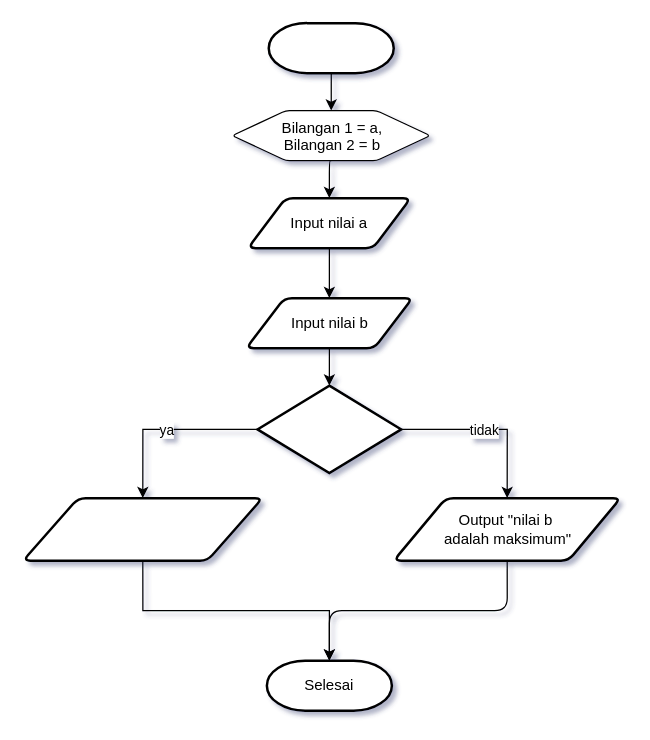
The diagram is 650 pixels wide and 740 high, and some of its shapes have lost their labels. Each missing label, with the centre of its shape:
a > b ?: the point at 329,429
Mulai: the point at 330,47
Output "nilai a adalah maksimum": the point at 142,528
